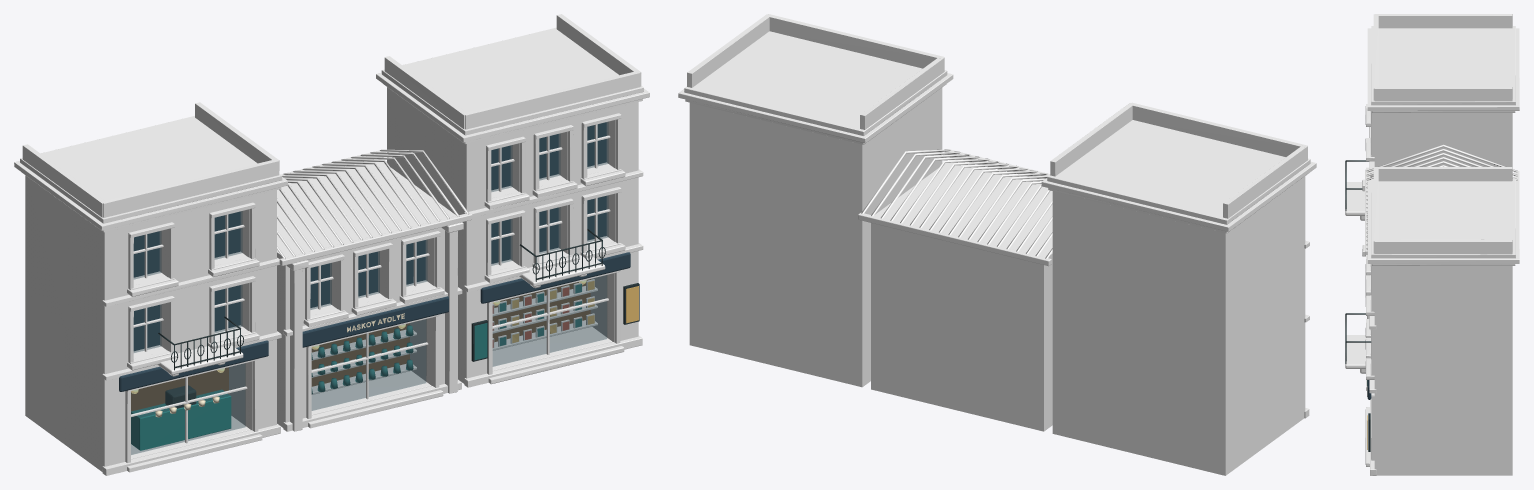
File: DistrictBlock_6_1_LOD1.glb
3 renders of one model, left to right at view 1: azimuth 30°, elevation 25°; view 2: azimuth 150°, elevation 25°; view 3: azimuth 270°, elevation 25°, orthographic. The views are drawn at different scales.
Parts seen in each view (by area): view 1: RK_DistrictBlock_6_1_LOD1_LC_Lime, RK_DistrictBlock_6_1_LOD1_LC_Brick, RK_DistrictBlock_6_1_LOD1_LC_Glass, RK_DistrictBlock_6_1_LOD1_LC_Ink, RK_DistrictBlock_6_1_LOD1_LC_Wood, RK_DistrictBlock_6_1_LOD1_LC_Teal, RK_DistrictBlock_6_1_LOD1_LC_Tile, RK_DistrictBlock_6_1_LOD1_LC_Interior, RK_DistrictBlock_6_1_LOD1_LC_Iron, RK_DistrictBlock_6_1_LOD1_LC_Gold; view 2: RK_DistrictBlock_6_1_LOD1_LC_Brick, RK_DistrictBlock_6_1_LOD1_LC_Lime, RK_DistrictBlock_6_1_LOD1_LC_Tile, RK_DistrictBlock_6_1_LOD1_LC_Wood; view 3: RK_DistrictBlock_6_1_LOD1_LC_Lime, RK_DistrictBlock_6_1_LOD1_LC_Brick, RK_DistrictBlock_6_1_LOD1_LC_Tile, RK_DistrictBlock_6_1_LOD1_LC_Iron, RK_DistrictBlock_6_1_LOD1_LC_Wood.
Boxes of the visible parts, bbox=[...] form: RK_DistrictBlock_6_1_LOD1_LC_Lime: bbox=[14, 14, 649, 475]; RK_DistrictBlock_6_1_LOD1_LC_Brick: bbox=[22, 102, 457, 471]; RK_DistrictBlock_6_1_LOD1_LC_Glass: bbox=[131, 122, 608, 454]; RK_DistrictBlock_6_1_LOD1_LC_Ink: bbox=[119, 122, 630, 391]; RK_DistrictBlock_6_1_LOD1_LC_Wood: bbox=[131, 124, 612, 459]; RK_DistrictBlock_6_1_LOD1_LC_Teal: bbox=[131, 284, 581, 450]; RK_DistrictBlock_6_1_LOD1_LC_Tile: bbox=[277, 149, 469, 258]; RK_DistrictBlock_6_1_LOD1_LC_Interior: bbox=[131, 279, 590, 411]; RK_DistrictBlock_6_1_LOD1_LC_Iron: bbox=[158, 229, 639, 408]; RK_DistrictBlock_6_1_LOD1_LC_Gold: bbox=[512, 281, 638, 342]; RK_DistrictBlock_6_1_LOD1_LC_Brick: bbox=[871, 102, 1307, 475]; RK_DistrictBlock_6_1_LOD1_LC_Lime: bbox=[678, 14, 1316, 418]; RK_DistrictBlock_6_1_LOD1_LC_Tile: bbox=[861, 149, 1052, 258]; RK_DistrictBlock_6_1_LOD1_LC_Wood: bbox=[858, 150, 1051, 266]; RK_DistrictBlock_6_1_LOD1_LC_Lime: bbox=[1345, 26, 1519, 475]; RK_DistrictBlock_6_1_LOD1_LC_Brick: bbox=[1373, 14, 1512, 166]; RK_DistrictBlock_6_1_LOD1_LC_Tile: bbox=[1366, 144, 1517, 249]; RK_DistrictBlock_6_1_LOD1_LC_Iron: bbox=[1345, 160, 1371, 451]; RK_DistrictBlock_6_1_LOD1_LC_Wood: bbox=[1365, 171, 1519, 255].
Bounding box in the file's own units: 19.09 × 9.02 × 6.07.
